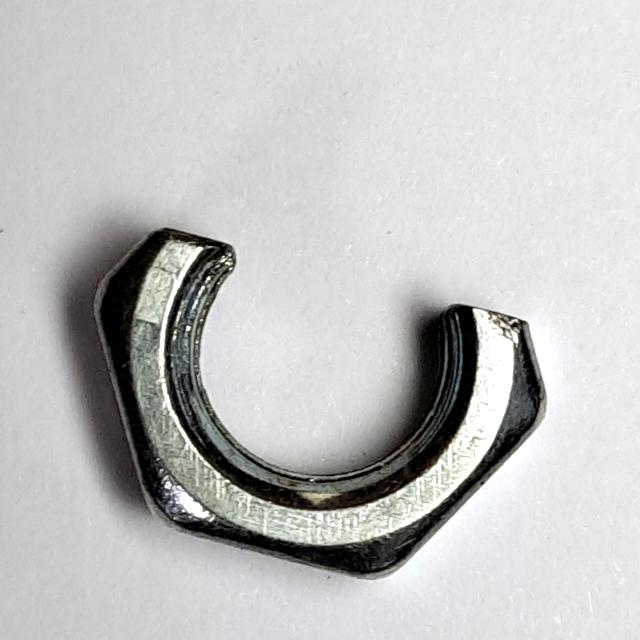Fracture: (83, 205, 562, 599)
